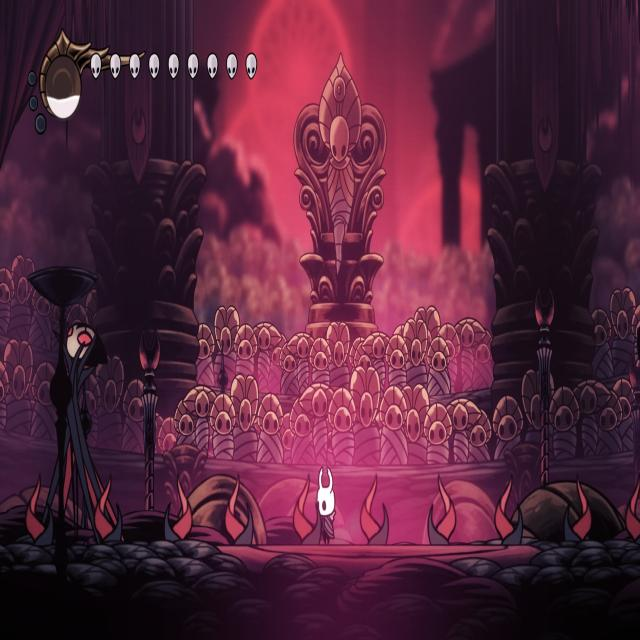Grimm: (43, 318, 123, 543)
Player: (315, 461, 339, 548)
Spikes: (292, 476, 321, 544), (360, 476, 389, 544), (428, 476, 456, 544), (26, 476, 52, 547), (225, 476, 252, 544), (495, 478, 522, 544), (95, 478, 122, 542), (165, 480, 192, 542), (564, 480, 591, 540), (625, 476, 639, 540)
